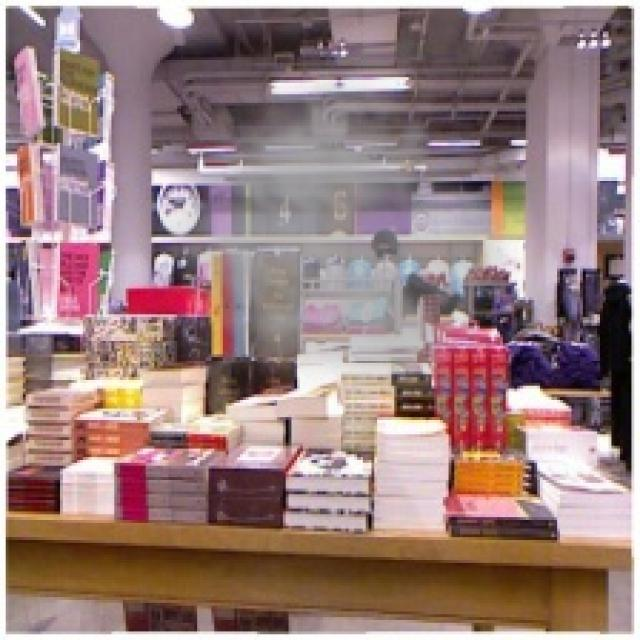smoke: (140, 43, 534, 397)
